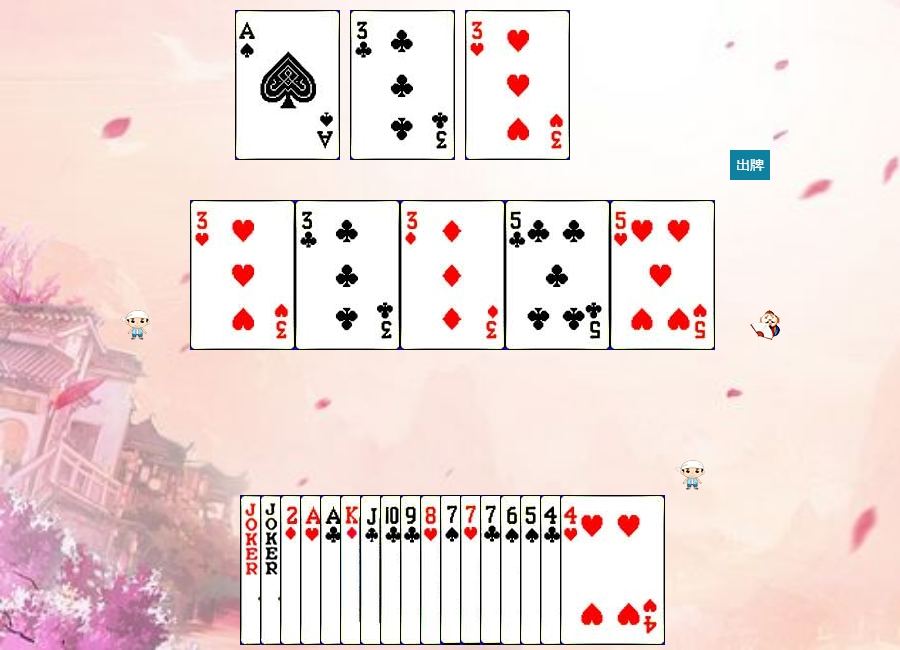10~2: (380, 495, 485, 645)
11~2: (360, 495, 465, 645)
13~1: (340, 495, 445, 645)
14~2: (320, 495, 425, 645)
14~3: (300, 495, 405, 645)
14~4: (235, 10, 340, 160)
15~1: (280, 495, 385, 645)
17~3: (260, 495, 365, 645)
18~4: (240, 495, 345, 645)
3~1: (400, 200, 505, 350)
3~2: (350, 10, 455, 160), (295, 200, 400, 350)
3~3: (465, 10, 570, 160), (190, 200, 295, 350)
4~2: (540, 495, 645, 645)
4~3: (560, 495, 665, 645)
5~2: (505, 200, 610, 350)
5~3: (610, 200, 715, 350)
5~4: (520, 495, 625, 645)
6~4: (500, 495, 605, 645)
7~2: (480, 495, 585, 645)
7~3: (460, 495, 565, 645)
7~4: (440, 495, 545, 645)
8~3: (420, 495, 525, 645)
9~2: (400, 495, 505, 645)
